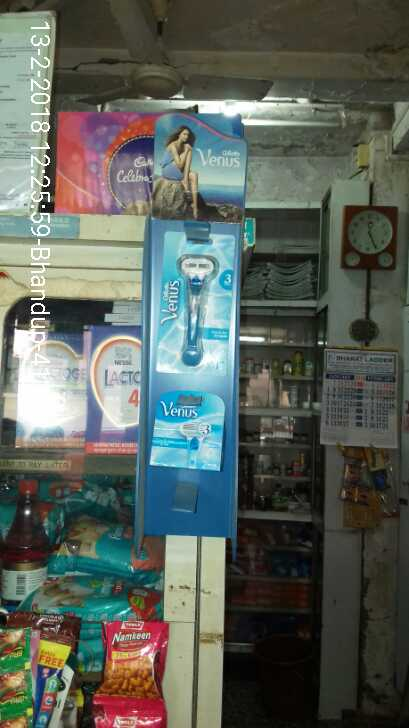beauty: (158, 232, 233, 378), (148, 387, 225, 466)
pharmacy: (59, 509, 161, 581), (40, 582, 157, 619)
